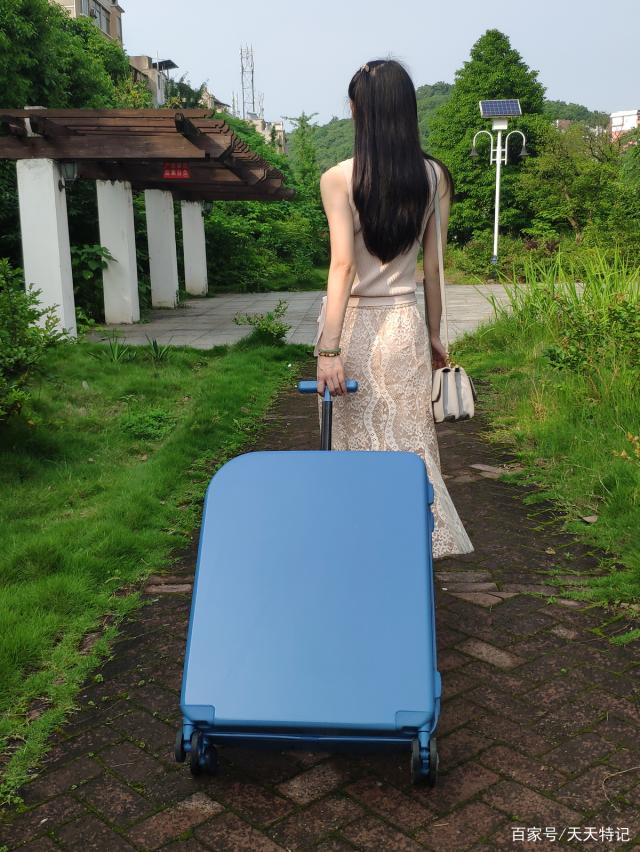box: (179, 450, 442, 746)
wheel: (174, 726, 205, 765), (409, 737, 441, 772), (190, 745, 220, 779), (410, 770, 440, 786)
